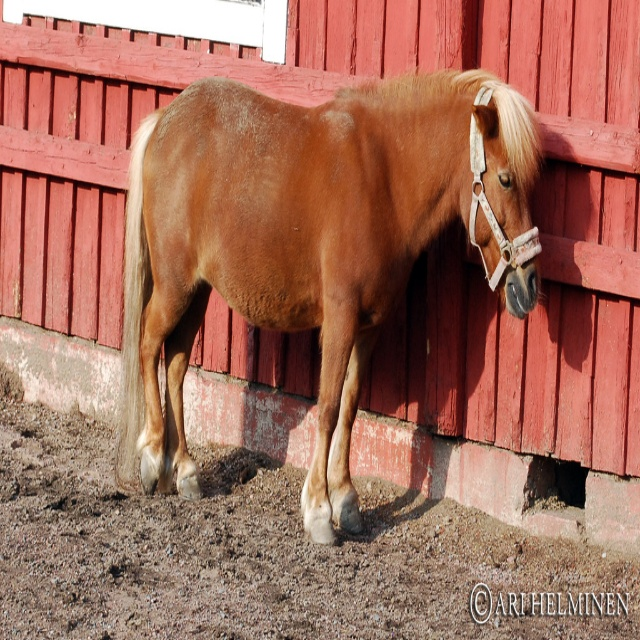Horse: (118, 66, 544, 546)
